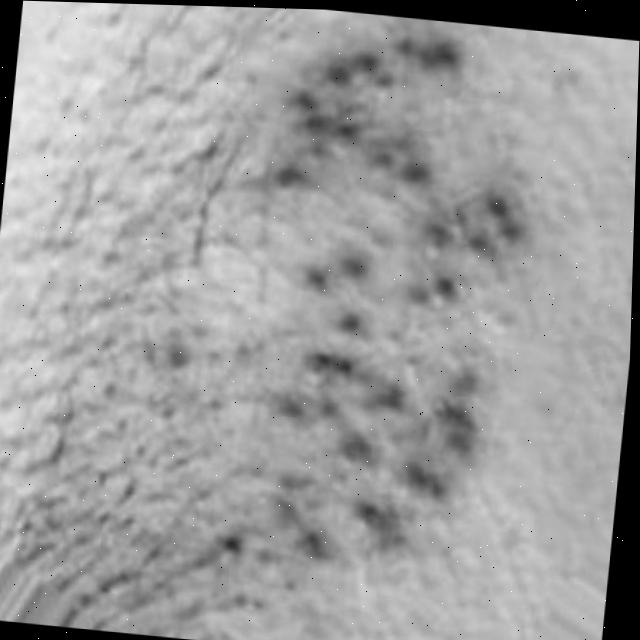Shingles: (228, 7, 533, 575)
